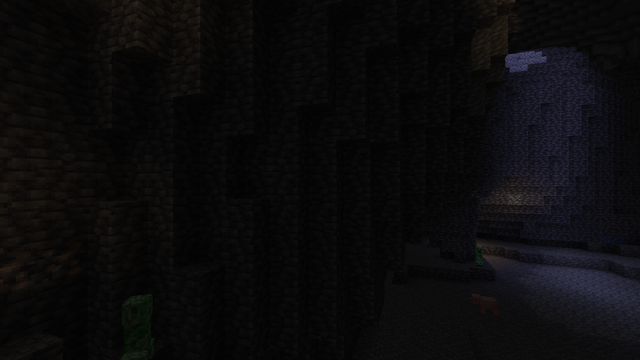cochons: (477, 294, 496, 316)
creepers: (116, 289, 156, 358), (474, 245, 483, 266)
